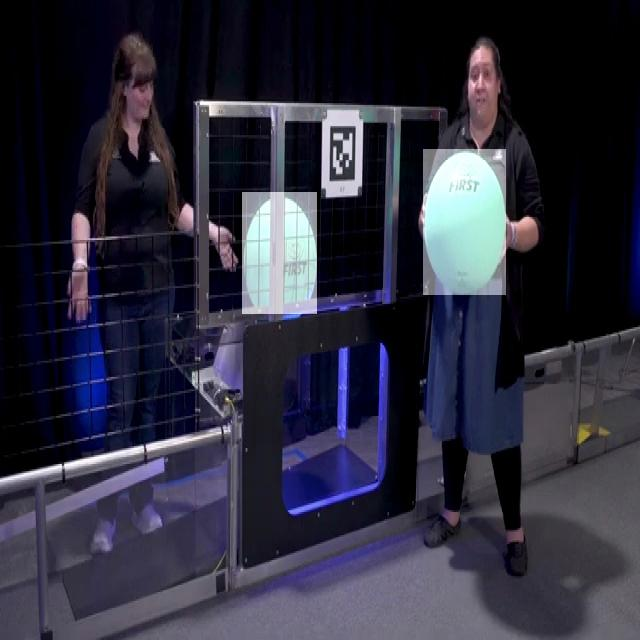Algae: (423, 149, 506, 295), (242, 192, 317, 314)
